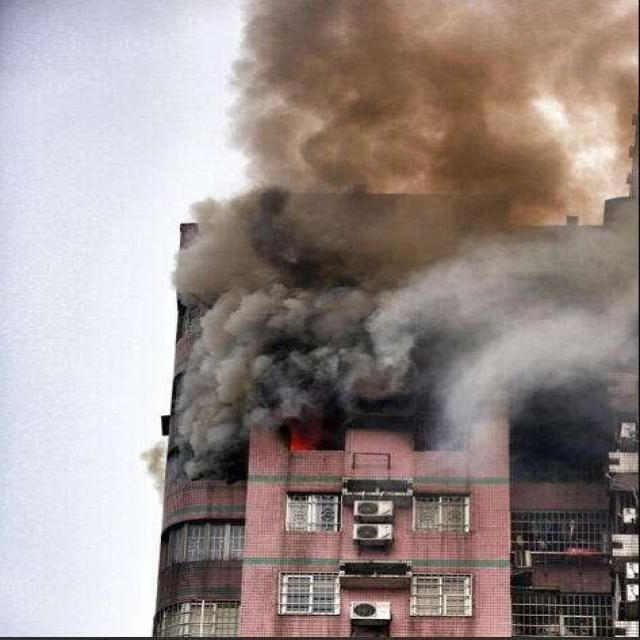Fire: (286, 423, 324, 450)
Smoke: (141, 0, 640, 490)
